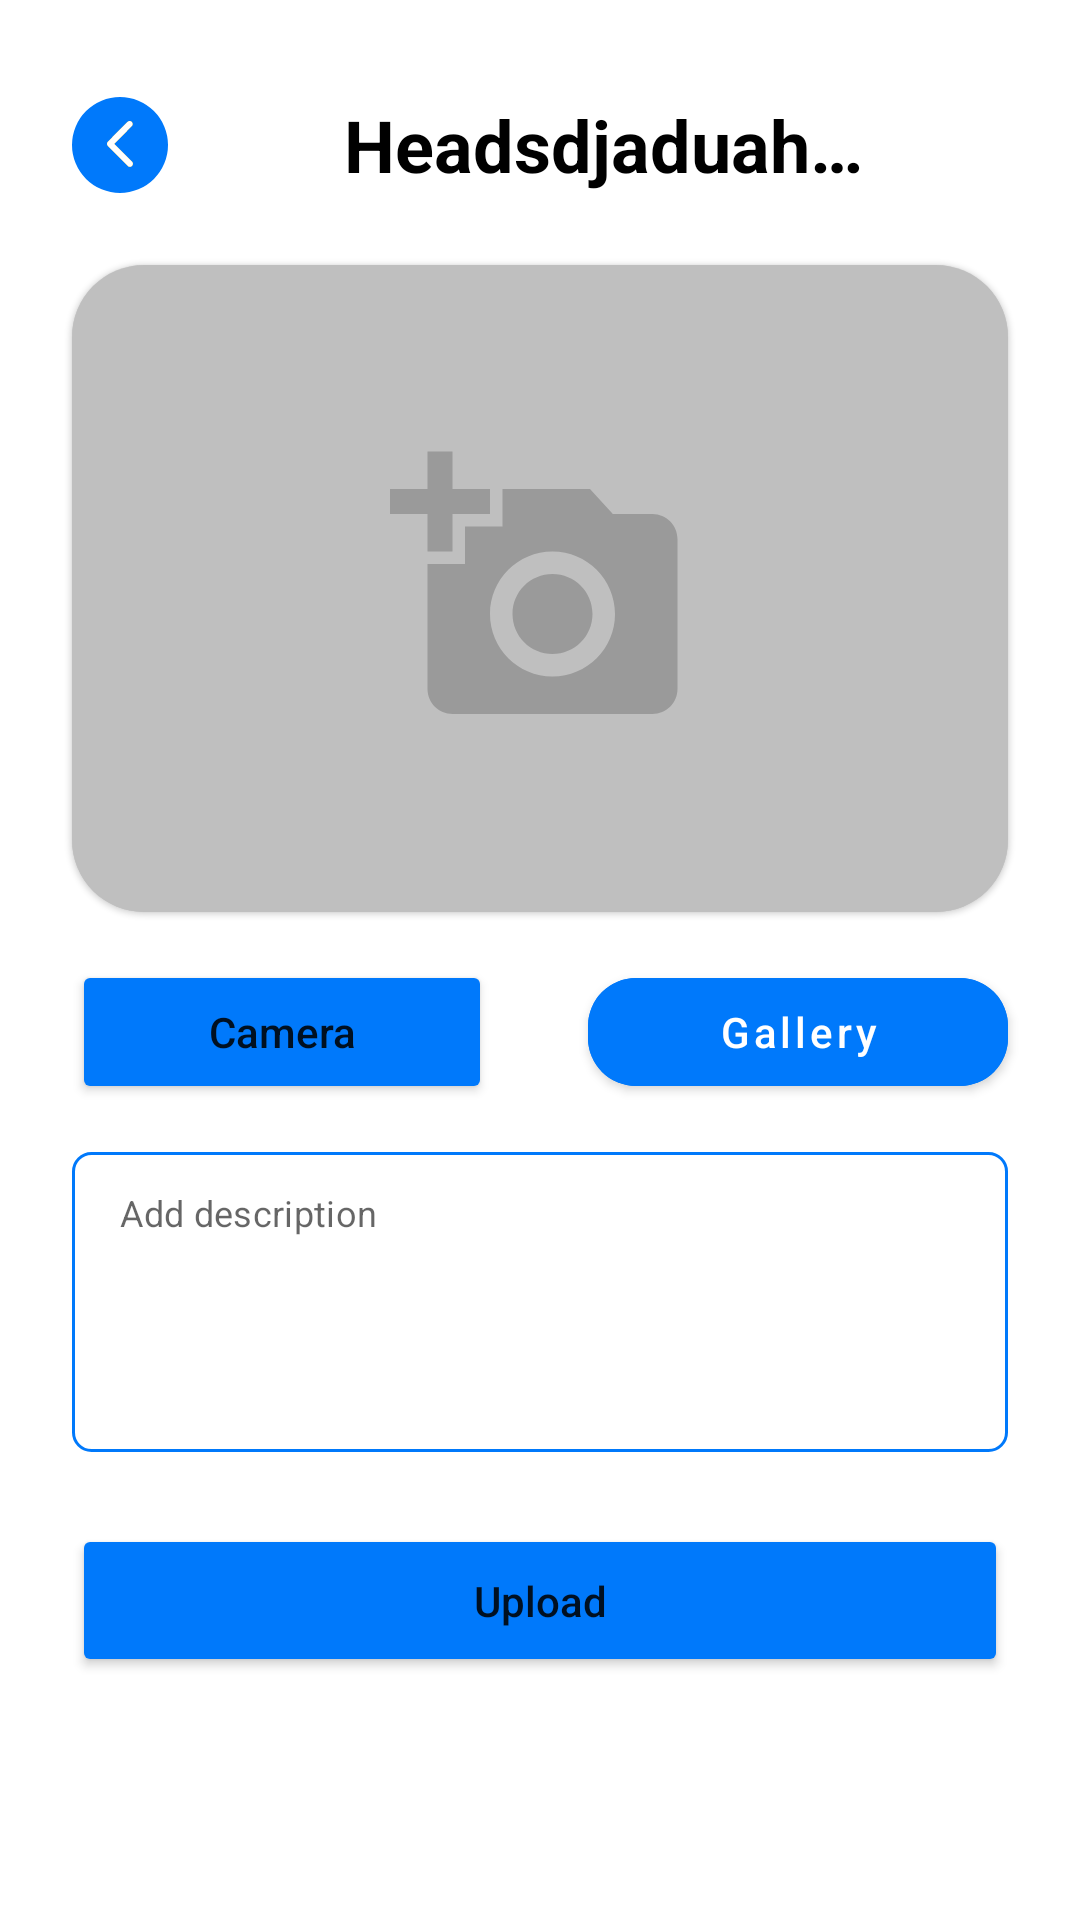

Icons on this 1080*1920 Android screen, each with the point to tap as (x,y):
add: (533,583)
back: (120,145)
